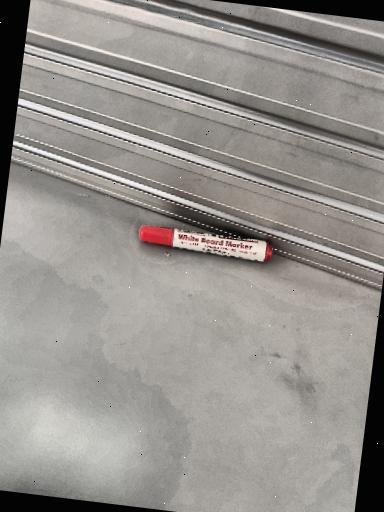marcador rojo: (139, 226, 272, 262)
